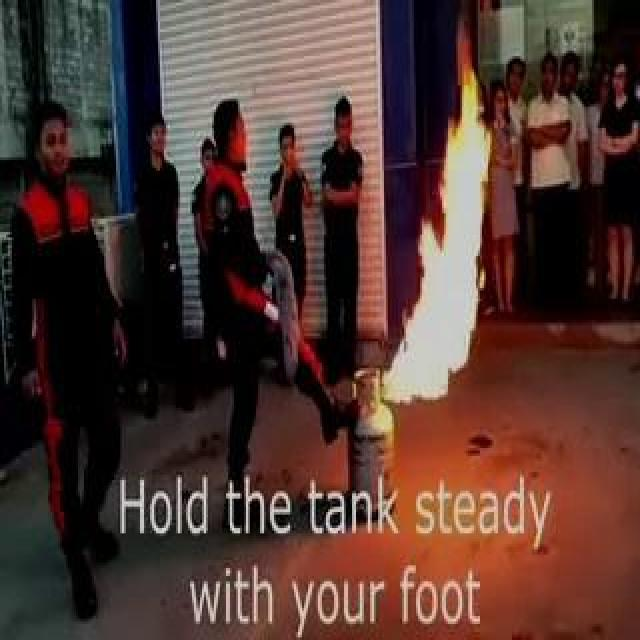Smoke: (400, 65, 476, 396)
